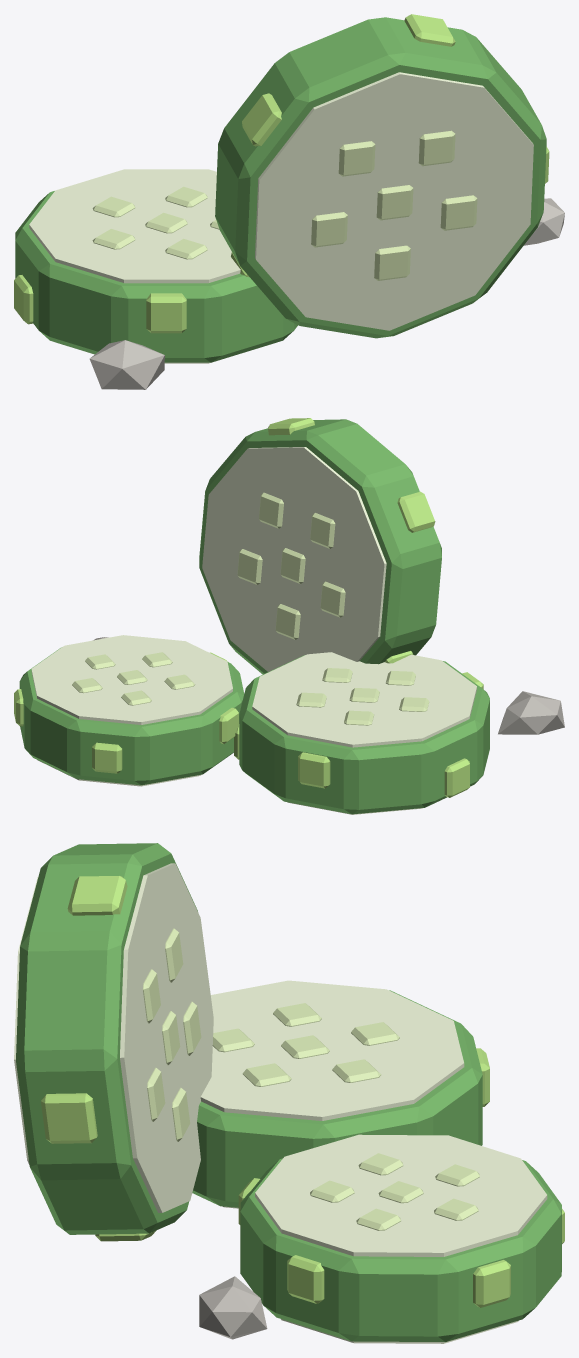
Rendered from SamuraiSlicedCucumber.fbx.
3 views of the same model, one above another, from view 1: azimuth 30°, elevation 25°; view 2: azimuth 150°, elevation 25°; view 3: azimuth 270°, elevation 25° (orthographic). The views are drawn at different scales.
Visible parts, largest first — view 1: SamuraiSlicedCucumber.Faces, SamuraiSlicedCucumber.Rims, SamuraiSlicedCucumber.Seeds, SamuraiSlicedCucumber.RimStuds, SamuraiSlicedCucumber.Stones; view 2: SamuraiSlicedCucumber.Faces, SamuraiSlicedCucumber.Rims, SamuraiSlicedCucumber.Seeds, SamuraiSlicedCucumber.RimStuds, SamuraiSlicedCucumber.Stones; view 3: SamuraiSlicedCucumber.Rims, SamuraiSlicedCucumber.Faces, SamuraiSlicedCucumber.Seeds, SamuraiSlicedCucumber.RimStuds, SamuraiSlicedCucumber.Stones.
Part boxes in pixels (x1,y1,x2,y2): SamuraiSlicedCucumber.Faces: (29,72,533,363); SamuraiSlicedCucumber.Rims: (15,17,546,362); SamuraiSlicedCucumber.Seeds: (92,130,477,280); SamuraiSlicedCucumber.RimStuds: (14,14,549,333); SamuraiSlicedCucumber.Stones: (89,198,564,389); SamuraiSlicedCucumber.Faces: (31,447,476,814); SamuraiSlicedCucumber.Rims: (19,419,489,814); SamuraiSlicedCucumber.Seeds: (72,492,429,725); SamuraiSlicedCucumber.RimStuds: (14,418,483,797); SamuraiSlicedCucumber.Stones: (93,637,564,734); SamuraiSlicedCucumber.Rims: (16,843,561,1342); SamuraiSlicedCucumber.Faces: (14,863,547,1343); SamuraiSlicedCucumber.Seeds: (142,928,479,1230); SamuraiSlicedCucumber.RimStuds: (41,876,564,1307); SamuraiSlicedCucumber.Stones: (199,1276,267,1339).
Size of the model in its own units: 3.11 by 1.78 by 2.42.
